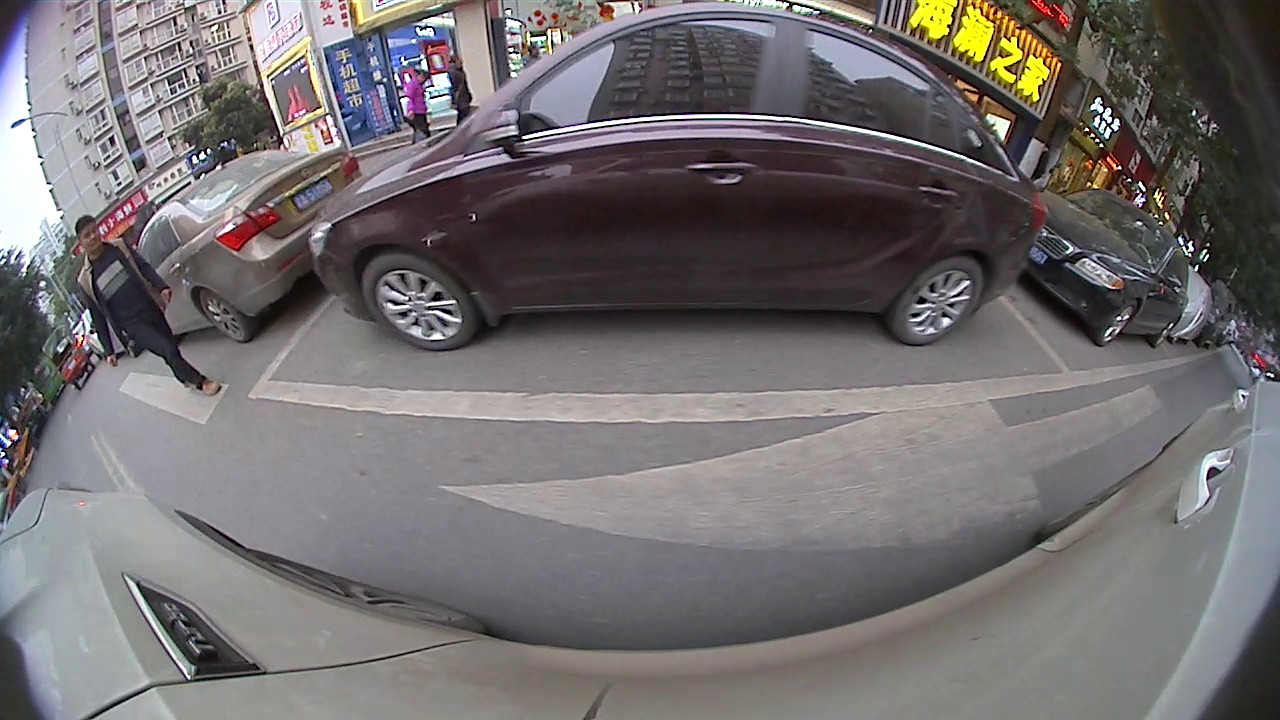car: (308, 2, 1050, 353), (141, 145, 362, 349), (1026, 184, 1193, 351)
front: (359, 251, 482, 357), (1100, 295, 1138, 348)
person: (72, 211, 223, 400), (407, 64, 430, 134), (444, 50, 471, 104)
rear: (893, 255, 986, 346), (188, 290, 253, 337)
